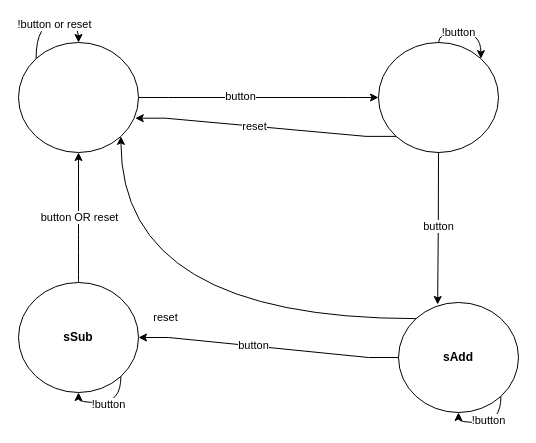
This 536x443 diagram has some shape labels left out. Each missing label, with the box of its shape:
sIn1: (18, 42, 138, 152)
sIn2: (378, 42, 498, 152)
